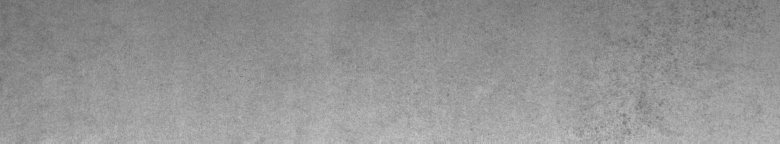ib: (592, 11, 733, 132)
